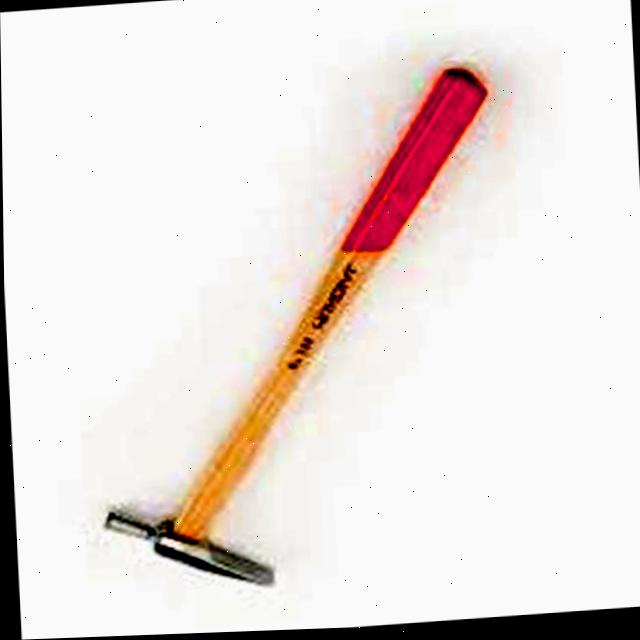hammer: (70, 48, 517, 611)
